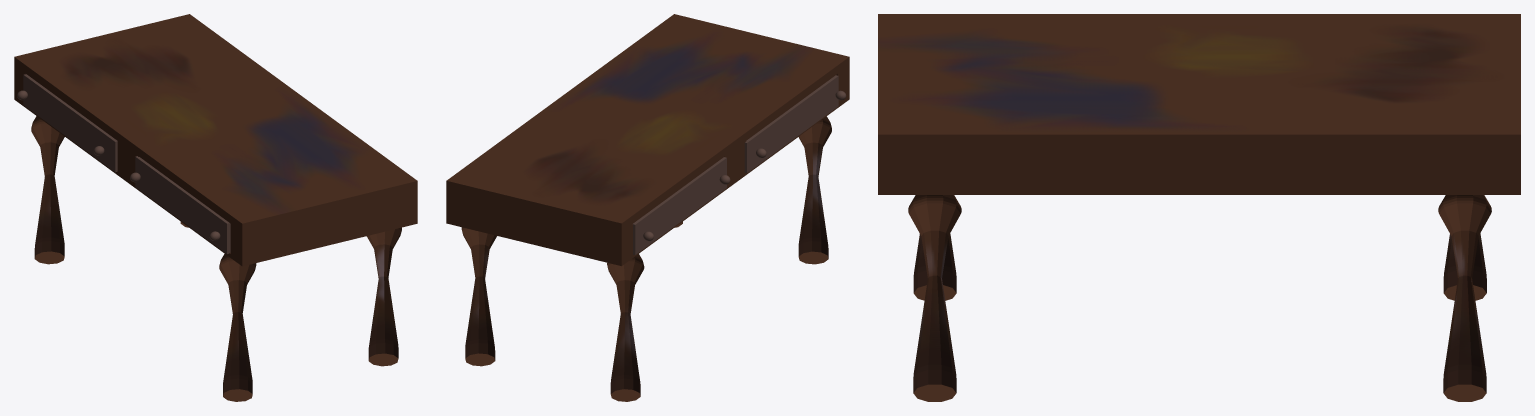
The model's file is Table.fbx.
3 views of the same model, side by side, from view 1: azimuth 30°, elevation 25°; view 2: azimuth 150°, elevation 25°; view 3: azimuth 270°, elevation 25° (orthographic). The views are drawn at different scales.
Visible parts, largest first — view 1: Drawers; view 2: Drawers; view 3: Drawers.
Part boxes in pixels (x1,y1,x2,y2): Drawers: (14,14,417,401); Drawers: (446,14,849,401); Drawers: (878,14,1520,401).
Size of the model in its own units: 2.5 by 5.17 by 2.38.
